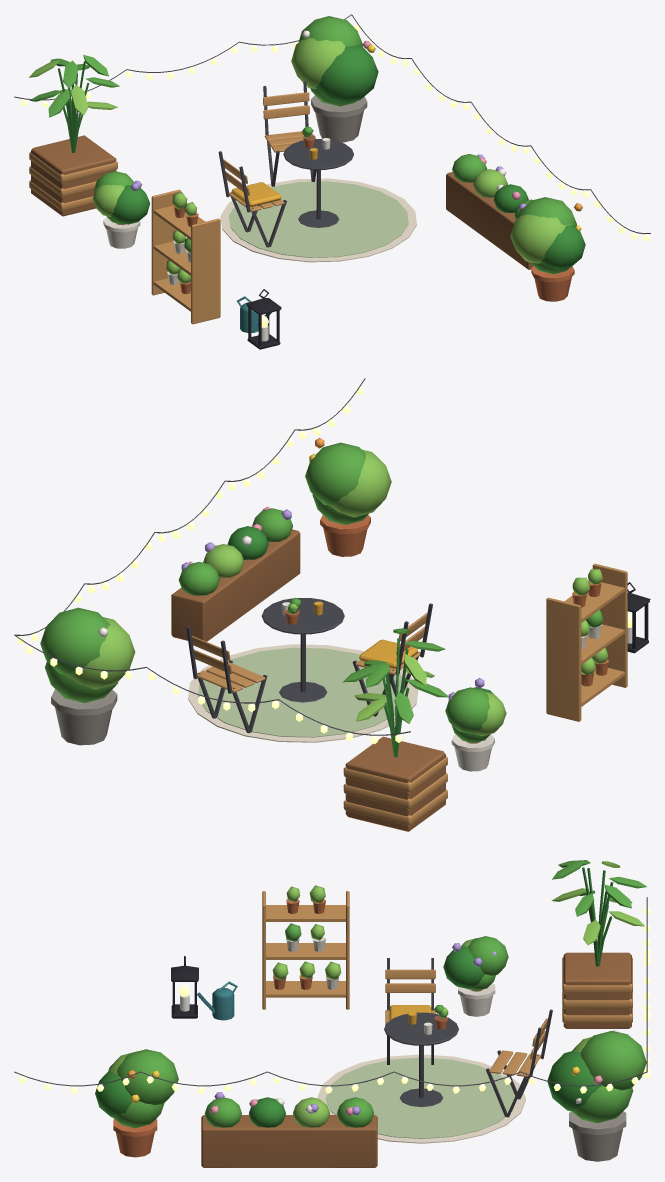
Rendered from einrichtung_balkon.glb.
3 views of the same model, one above another, from view 1: azimuth 30°, elevation 25°; view 2: azimuth 150°, elevation 25°; view 3: azimuth 270°, elevation 25° (orthographic). The views are drawn at different scales.
Parts seen in each view (by area): view 1: einrichtung_balkon; view 2: einrichtung_balkon; view 3: einrichtung_balkon.
Part boxes in pixels (left/top/right/bottom): einrichtung_balkon: left=14, top=14, right=650, bottom=349; einrichtung_balkon: left=14, top=378, right=650, bottom=831; einrichtung_balkon: left=14, top=860, right=650, bottom=1167.
Bounding box in the file's own units: 3.82 × 1.58 × 5.79.
